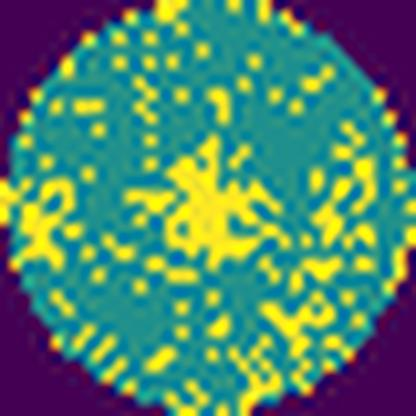Center: (167, 140, 267, 261)
